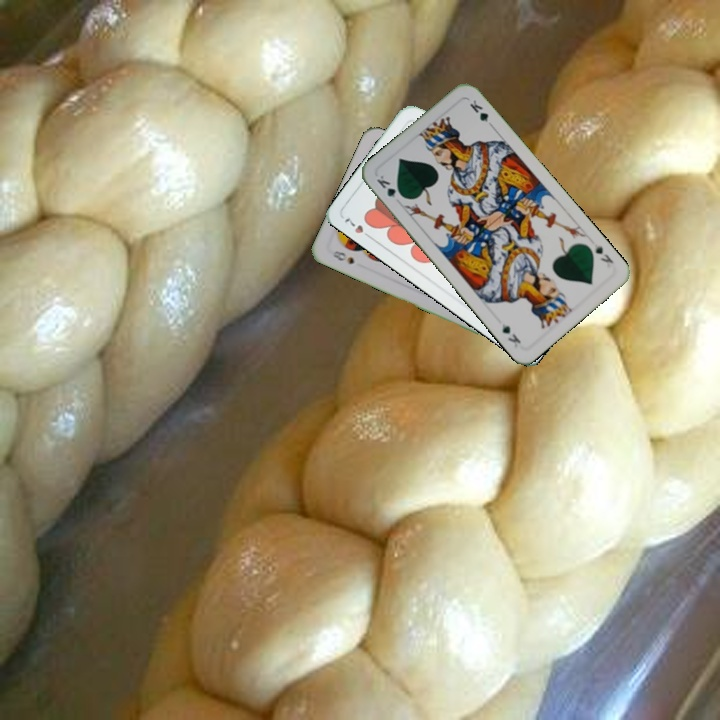GK: (373, 171, 407, 201), (590, 240, 616, 266)
H7: (340, 214, 375, 242)
S8: (328, 246, 357, 267)
